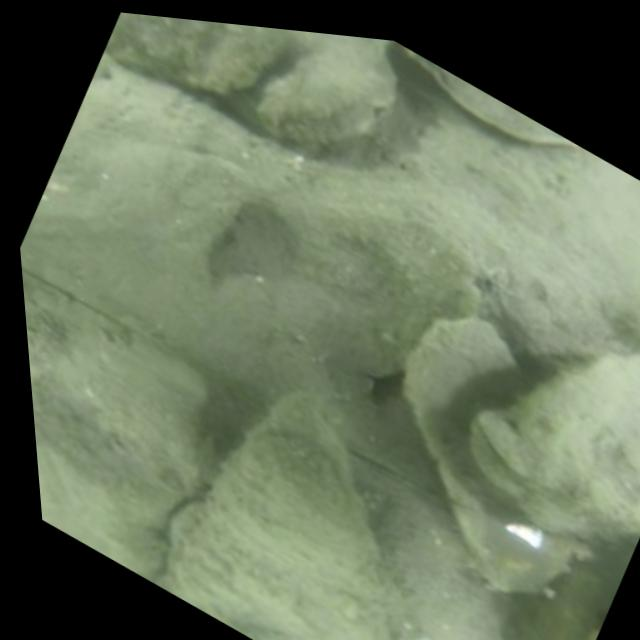Oyster-Closed: (161, 402, 394, 640), (399, 44, 579, 149)
Oyster-Indeterminate: (407, 316, 585, 597), (31, 347, 204, 581), (272, 204, 477, 376), (473, 357, 640, 543), (95, 139, 258, 264), (257, 35, 395, 149), (108, 13, 286, 94)
